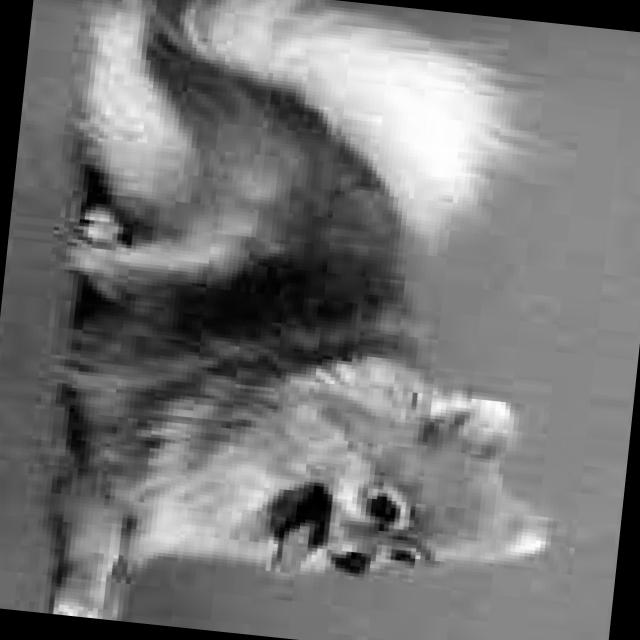laying down: (0, 0, 613, 640)
